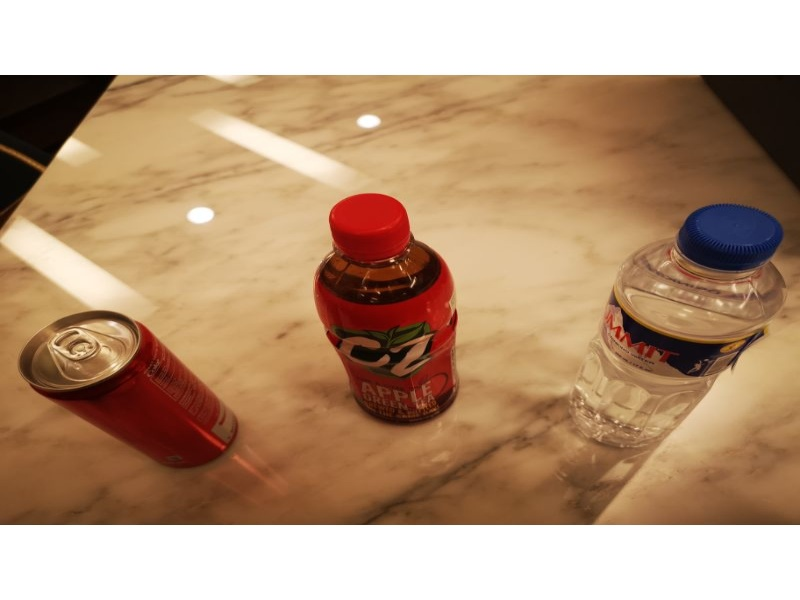PET #1: (567, 201, 795, 465), (312, 193, 470, 429)
